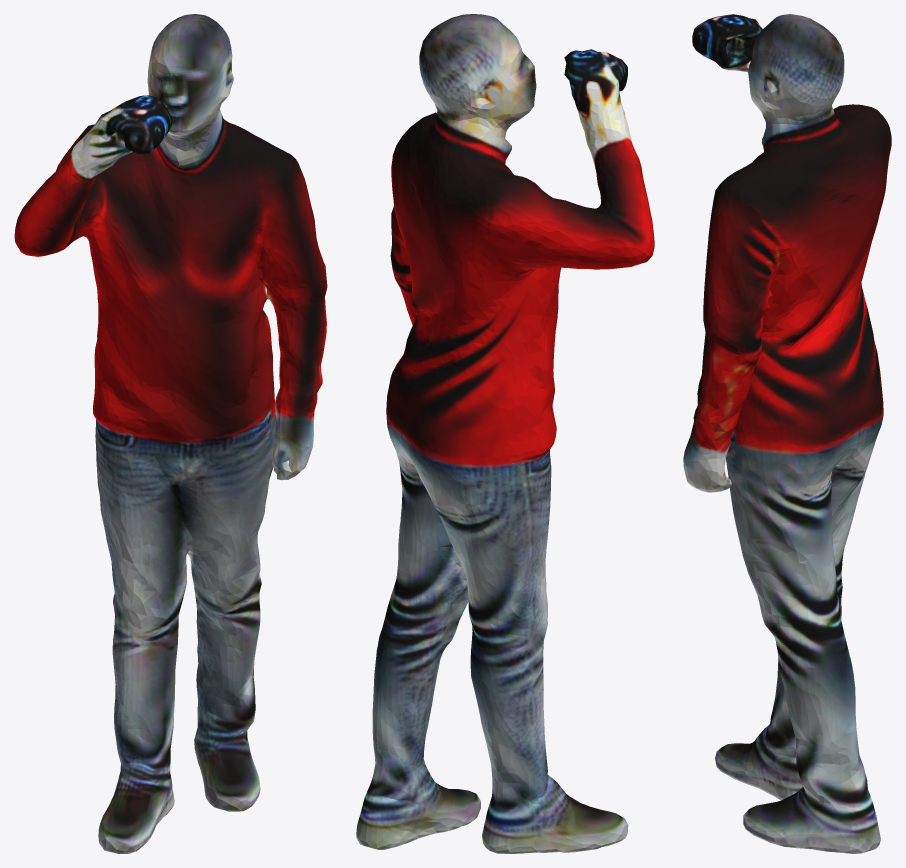
The model's file is man_camera_m2.glb.
The picture shows the model from 3 angles, left to right: view 1: azimuth 30°, elevation 25°; view 2: azimuth 150°, elevation 25°; view 3: azimuth 270°, elevation 25°; orthographic projection. The views are drawn at different scales.
Parts seen in each view (by area): view 1: fine_mesh; view 2: fine_mesh; view 3: fine_mesh.
Boxes of the visible parts, x1=… form: fine_mesh: x1=14, y1=14, x2=327, y2=853; fine_mesh: x1=356, y1=14, x2=654, y2=853; fine_mesh: x1=683, y1=14, x2=891, y2=853.
Size of the model in its own units: 0.5913 by 1.6 by 0.3782.
Materials: 1 (1 with a texture image).
